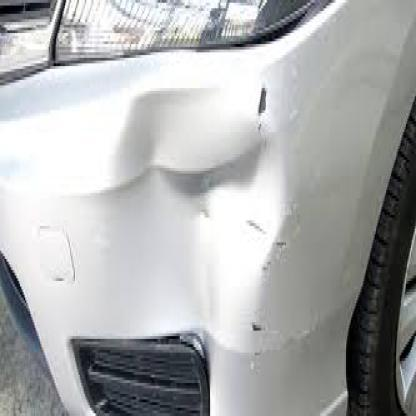dent: (112, 90, 283, 274)
